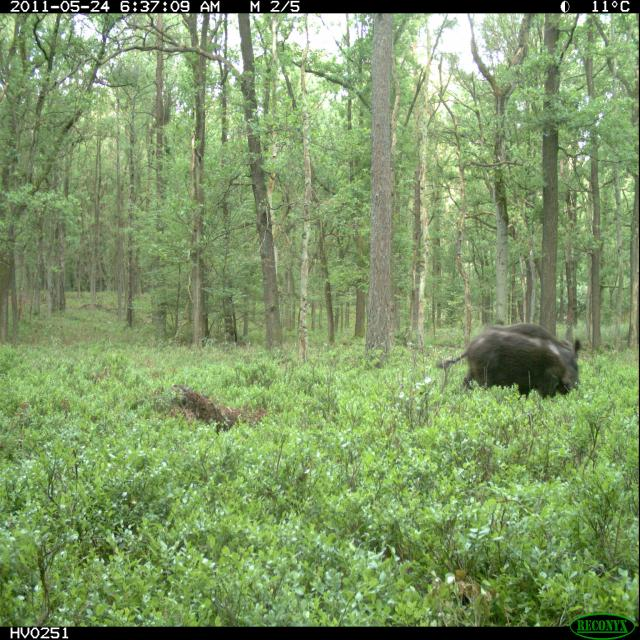boar: (448, 307, 590, 420)
